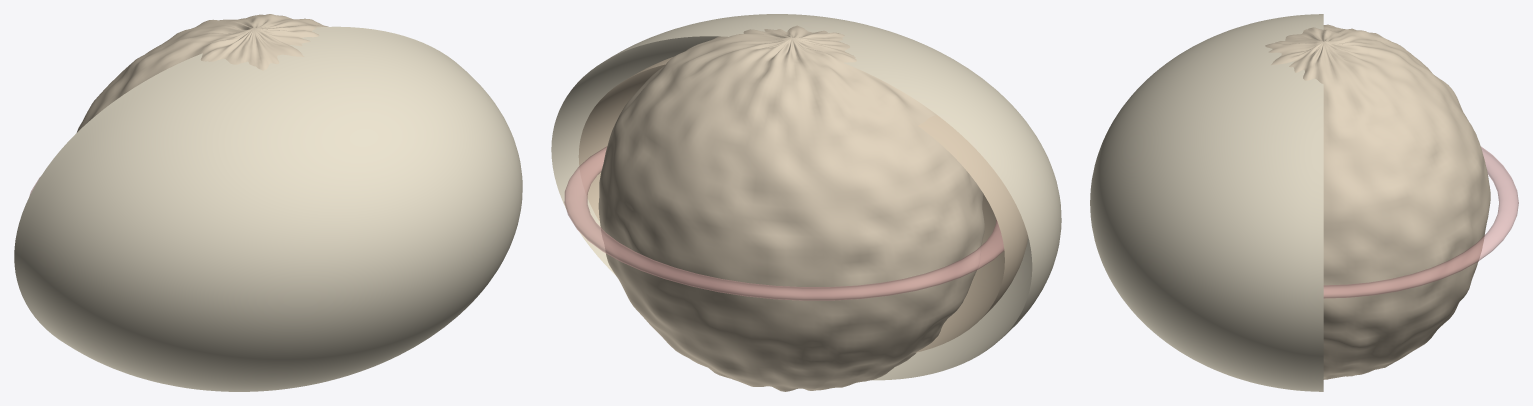
File: cyst.glb
3 renders of one model, left to right at view 1: azimuth 30°, elevation 25°; view 2: azimuth 150°, elevation 25°; view 3: azimuth 270°, elevation 25°, orthographic. The views are drawn at different scales.
Visible parts, largest first — view 1: Bone_Shell, Cyst_Wall; view 2: Cyst_Wall, Bone_Shell, Cancellous, Expansion_Rim; view 3: Bone_Shell, Cyst_Wall, Expansion_Rim.
Boxes of the visible parts, <box> form: Bone_Shell: <box>14,26,522,391</box>; Cyst_Wall: <box>76,14,328,132</box>; Cyst_Wall: <box>598,25,984,391</box>; Bone_Shell: <box>551,14,1061,380</box>; Cancellous: <box>578,57,1028,352</box>; Expansion_Rim: <box>564,146,1004,300</box>; Bone_Shell: <box>1090,14,1323,391</box>; Cyst_Wall: <box>1265,24,1490,379</box>; Expansion_Rim: <box>1323,146,1518,298</box>.
Size of the model in its own units: 2.79 by 1.88 by 2.28.
